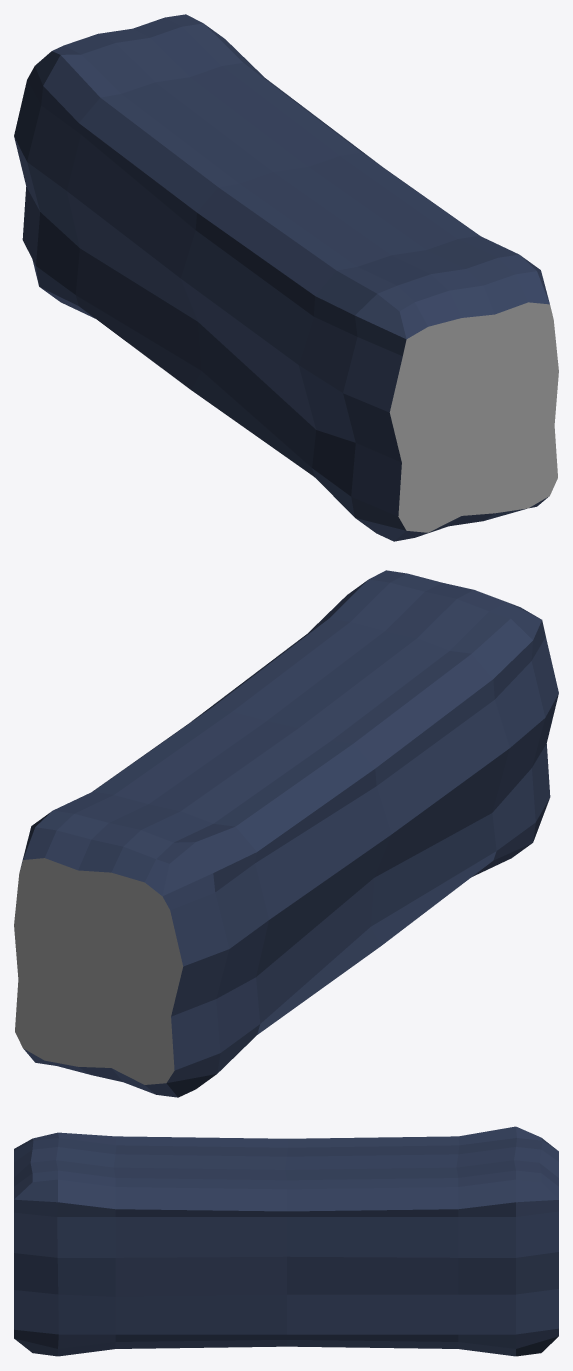
The model's file is Floor_Corners.fbx.
The picture shows the model from 3 angles, top to bottom: view 1: azimuth 30°, elevation 25°; view 2: azimuth 150°, elevation 25°; view 3: azimuth 270°, elevation 25°; orthographic projection. The views are drawn at different scales.
Parts seen in each view (by area): view 1: Floor_Corners_GEO; view 2: Floor_Corners_GEO; view 3: Floor_Corners_GEO.
Part boxes in pixels (x1=…): Floor_Corners_GEO: x1=14, y1=14, x2=558, y2=541; Floor_Corners_GEO: x1=14, y1=570, x2=558, y2=1097; Floor_Corners_GEO: x1=14, y1=1126, x2=558, y2=1356.
Size of the model in its own units: 291 by 333 by 910.
